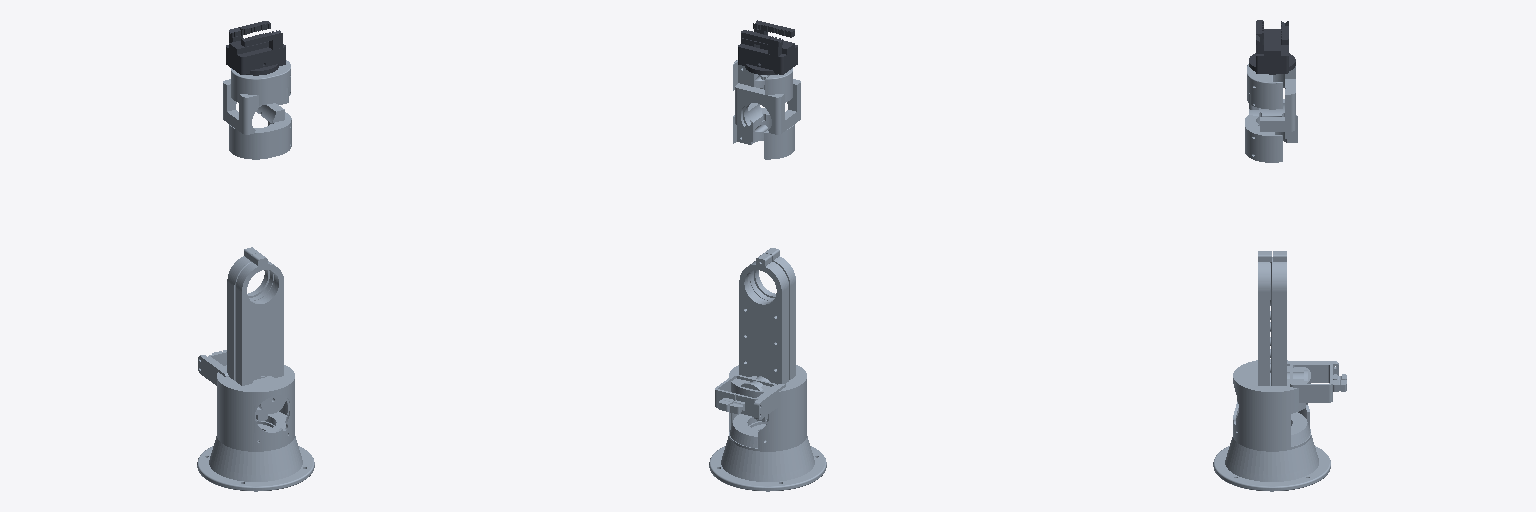
robot.urdf — arm450:
<?xml version="1.0"?>
<!-- ARM-450 — geometry and inertia EXTRACTED from the CAD.
     Meshes are the exported solids; inertias are computed from them. -->
<robot name="arm450">
  <material name="shell"><color rgba="0.66 0.71 0.77 1"/></material>
  <material name="tool"><color rgba="0.30 0.32 0.36 1"/></material>
  <link name="world"/>
  <joint name="world_to_base" type="fixed">
    <parent link="world"/><child link="base_link"/>
    <origin rpy="0 0 0" xyz="0 0 0"/>
  </joint>
  <link name="base_link">
    <inertial>
      <origin rpy="0 0 0" xyz="0 0 0"/>
      <mass value="0.12765"/>
      <inertia ixx="0.000134186" ixy="-0.000000000" ixz="-0.000000000"
               iyy="0.000134186" iyz="-0.000000000" izz="0.000130113"/>
    </inertial>
    <visual>
      <origin rpy="0 0 0" xyz="0 0 0"/>
      <geometry><mesh filename="package://arm450_description/meshes/base_link.stl" scale="0.001 0.001 0.001"/></geometry>
      <material name="shell"/>
    </visual>
    <collision>
      <origin rpy="0 0 0" xyz="0 0 0"/>
      <geometry><mesh filename="package://arm450_description/meshes/base_link.stl" scale="0.001 0.001 0.001"/></geometry>
    </collision>
  </link>
  <joint name="joint1" type="revolute">
    <parent link="base_link"/><child link="link1"/>
    <origin rpy="0 0 0" xyz="0 0 0.050000"/>
    <axis xyz="0 0 1"/>
    <limit effort="2.94" velocity="4.6"
           lower="-2.879793" upper="2.879793"/>
  </joint>
  <link name="link1">
    <inertial>
      <origin rpy="0 0 0" xyz="0 0 0"/>
      <mass value="0.22068"/>
      <inertia ixx="0.000155012" ixy="0.000003660" ixz="0.000000910"
               iyy="0.000176252" iyz="0.000000478" izz="0.000117273"/>
    </inertial>
    <visual>
      <origin rpy="0 0 0" xyz="0 0 0"/>
      <geometry><mesh filename="package://arm450_description/meshes/link1.stl" scale="0.001 0.001 0.001"/></geometry>
      <material name="shell"/>
    </visual>
    <collision>
      <origin rpy="0 0 0" xyz="0 0 0"/>
      <geometry><mesh filename="package://arm450_description/meshes/link1.stl" scale="0.001 0.001 0.001"/></geometry>
    </collision>
  </link>
  <joint name="joint2" type="revolute">
    <parent link="link1"/><child link="link2"/>
    <origin rpy="0 0 0" xyz="0 0 0.040000"/>
    <axis xyz="0 1 0"/>
    <limit effort="4.9" velocity="3.7"
           lower="-2.007129" upper="2.007129"/>
  </joint>
  <link name="link2">
    <inertial>
      <origin rpy="0 0 0" xyz="0 0 0"/>
      <mass value="0.26882"/>
      <inertia ixx="0.000077159" ixy="0.000005250" ixz="0.000000826"
               iyy="0.000018950" iyz="-0.000005689" izz="0.000085176"/>
    </inertial>
    <visual>
      <origin rpy="0 0 0" xyz="0 0 0"/>
      <geometry><mesh filename="package://arm450_description/meshes/link2.stl" scale="0.001 0.001 0.001"/></geometry>
      <material name="shell"/>
    </visual>
    <collision>
      <origin rpy="0 0 0" xyz="0 0 0"/>
      <geometry><mesh filename="package://arm450_description/meshes/link2.stl" scale="0.001 0.001 0.001"/></geometry>
    </collision>
  </link>
  <joint name="joint3" type="revolute">
    <parent link="link2"/><child link="link3"/>
    <origin rpy="0 0 0" xyz="0 0 0.119000"/>
    <axis xyz="0 1 0"/>
    <limit effort="2.94" velocity="4.6"
           lower="-2.617994" upper="2.617994"/>
  </joint>
  <link name="link3">
    <inertial>
      <origin rpy="0 0 0" xyz="0 0 0"/>
      <mass value="0.26882"/>
      <inertia ixx="0.000077159" ixy="0.000005250" ixz="0.000000826"
               iyy="0.000018950" iyz="-0.000005689" izz="0.000085176"/>
    </inertial>
    <visual>
      <origin rpy="0 0 0" xyz="0 0 0"/>
      <geometry><mesh filename="package://arm450_description/meshes/link3.stl" scale="0.001 0.001 0.001"/></geometry>
      <material name="shell"/>
    </visual>
    <collision>
      <origin rpy="0 0 0" xyz="0 0 0"/>
      <geometry><mesh filename="package://arm450_description/meshes/link3.stl" scale="0.001 0.001 0.001"/></geometry>
    </collision>
  </link>
  <joint name="joint4" type="revolute">
    <parent link="link3"/><child link="link4"/>
    <origin rpy="0 0 0" xyz="0 0 0.119000"/>
    <axis xyz="0 0 1"/>
    <limit effort="2.94" velocity="4.6"
           lower="-2.879793" upper="2.879793"/>
  </joint>
  <link name="link4">
    <inertial>
      <origin rpy="0 0 0" xyz="0 0 0"/>
      <mass value="0.16363"/>
      <inertia ixx="0.000224756" ixy="0.000008480" ixz="-0.000011319"
               iyy="0.000241245" iyz="0.000034740" izz="0.000057734"/>
    </inertial>
    <visual>
      <origin rpy="0 0 0" xyz="0 0 0"/>
      <geometry><mesh filename="package://arm450_description/meshes/link4.stl" scale="0.001 0.001 0.001"/></geometry>
      <material name="shell"/>
    </visual>
    <collision>
      <origin rpy="0 0 0" xyz="0 0 0"/>
      <geometry><mesh filename="package://arm450_description/meshes/link4.stl" scale="0.001 0.001 0.001"/></geometry>
    </collision>
  </link>
  <joint name="joint5" type="revolute">
    <parent link="link4"/><child link="link5"/>
    <origin rpy="0 0 0" xyz="0 0 0.062000"/>
    <axis xyz="0 1 0"/>
    <limit effort="2.94" velocity="4.6"
           lower="-1.588250" upper="0.855211"/>
  </joint>
  <link name="link5">
    <inertial>
      <origin rpy="0 0 0" xyz="0 0 0"/>
      <mass value="0.15644"/>
      <inertia ixx="0.000081934" ixy="-0.000002903" ixz="0.000002032"
               iyy="0.000087442" iyz="-0.000001817" izz="0.000053080"/>
    </inertial>
    <visual>
      <origin rpy="0 0 0" xyz="0 0 0"/>
      <geometry><mesh filename="package://arm450_description/meshes/link5.stl" scale="0.001 0.001 0.001"/></geometry>
      <material name="shell"/>
    </visual>
    <collision>
      <origin rpy="0 0 0" xyz="0 0 0"/>
      <geometry><mesh filename="package://arm450_description/meshes/link5.stl" scale="0.001 0.001 0.001"/></geometry>
    </collision>
  </link>
  <joint name="joint6" type="revolute">
    <parent link="link5"/><child link="link6"/>
    <origin rpy="0 0 0" xyz="0 0 0.030000"/>
    <axis xyz="0 0 1"/>
    <limit effort="2.94" velocity="4.6"
           lower="-3.054326" upper="3.054326"/>
  </joint>
  <link name="link6">
    <inertial>
      <origin rpy="0 0 0" xyz="0 0 0"/>
      <mass value="0.15870"/>
      <inertia ixx="0.000046257" ixy="0.000008393" ixz="-0.000004884"
               iyy="0.000062384" iyz="0.000011363" izz="0.000050543"/>
    </inertial>
    <visual>
      <origin rpy="0 0 0" xyz="0 0 0"/>
      <geometry><mesh filename="package://arm450_description/meshes/link6.stl" scale="0.001 0.001 0.001"/></geometry>
      <material name="shell"/>
    </visual>
    <collision>
      <origin rpy="0 0 0" xyz="0 0 0"/>
      <geometry><mesh filename="package://arm450_description/meshes/link6.stl" scale="0.001 0.001 0.001"/></geometry>
    </collision>
  </link>
  <joint name="link6_to_tcp" type="fixed">
    <parent link="link6"/><child link="tcp"/>
    <origin rpy="0 0 0" xyz="0 0 0.030000"/>
  </joint>
  <link name="tcp"/>
  <joint name="link6_to_tool" type="fixed">
    <parent link="link6"/><child link="tool"/>
    <origin rpy="0 0 0" xyz="0 0 0"/>
  </joint>
  <link name="tool">
    <inertial>
      <origin rpy="0 0 0" xyz="0 0 0"/>
      <mass value="0.07460"/>
      <inertia ixx="0.000025006" ixy="-0.000000009" ixz="-0.000000024"
               iyy="0.000024984" iyz="-0.000000066" izz="0.000003925"/>
    </inertial>
    <visual>
      <origin rpy="0 0 0" xyz="0 0 0"/>
      <geometry><mesh filename="package://arm450_description/meshes/tool_gripper.stl" scale="0.001 0.001 0.001"/></geometry>
      <material name="tool"/>
    </visual>
    <collision>
      <origin rpy="0 0 0" xyz="0 0 0"/>
      <geometry><mesh filename="package://arm450_description/meshes/tool_gripper.stl" scale="0.001 0.001 0.001"/></geometry>
    </collision>
  </link>
  <joint name="tool_to_tip" type="fixed">
    <parent link="tool"/><child link="tool_tip"/>
    <origin rpy="0 0 0" xyz="0 0 0.072000"/>
  </joint>
  <link name="tool_tip"/>
</robot>

--- Facts derived from the render (not from the file) ---
Views: 3 orthographic renders of the robot side by side, from view 1: azimuth 30°, elevation 25°; view 2: azimuth 150°, elevation 25°; view 3: azimuth 270°, elevation 25°.
Robot: arm450 — 11 links, 10 joints (6 revolute, 4 fixed); root link world; default pose: all joints at 0.
Visible links, largest first — view 1: link2, base_link, link1, tool, link4, link5, link6; view 2: link2, base_link, link1, tool, link5, link4, link6; view 3: link2, base_link, link1, tool, link4, link6, link5.
Boxes of the visible links, x1,y1,x2,y2 form: link2: (198,247,285,421); base_link: (197,411,314,491); link1: (217,365,294,451); tool: (226,21,285,75); link4: (229,112,291,159); link5: (223,79,288,134); link6: (231,60,290,105); link2: (715,248,795,421); base_link: (709,414,826,491); link1: (729,365,806,451); tool: (738,20,797,74); link5: (735,75,800,134); link4: (733,108,794,159); link6: (733,60,792,102); link2: (1237,251,1346,404); base_link: (1213,412,1330,491); link1: (1233,359,1310,451); tool: (1249,20,1295,74); link4: (1245,115,1297,162); link6: (1247,64,1295,109); link5: (1249,79,1295,131).
Bounding box of the posed robot: 0.12 × 0.1358 × 0.492 m (x, y, z).
Meshes: 8 distinct files referenced, 7 mesh visuals loaded (7 binary STL); not drawn: 1 (reference not matched to a file when rendering).
